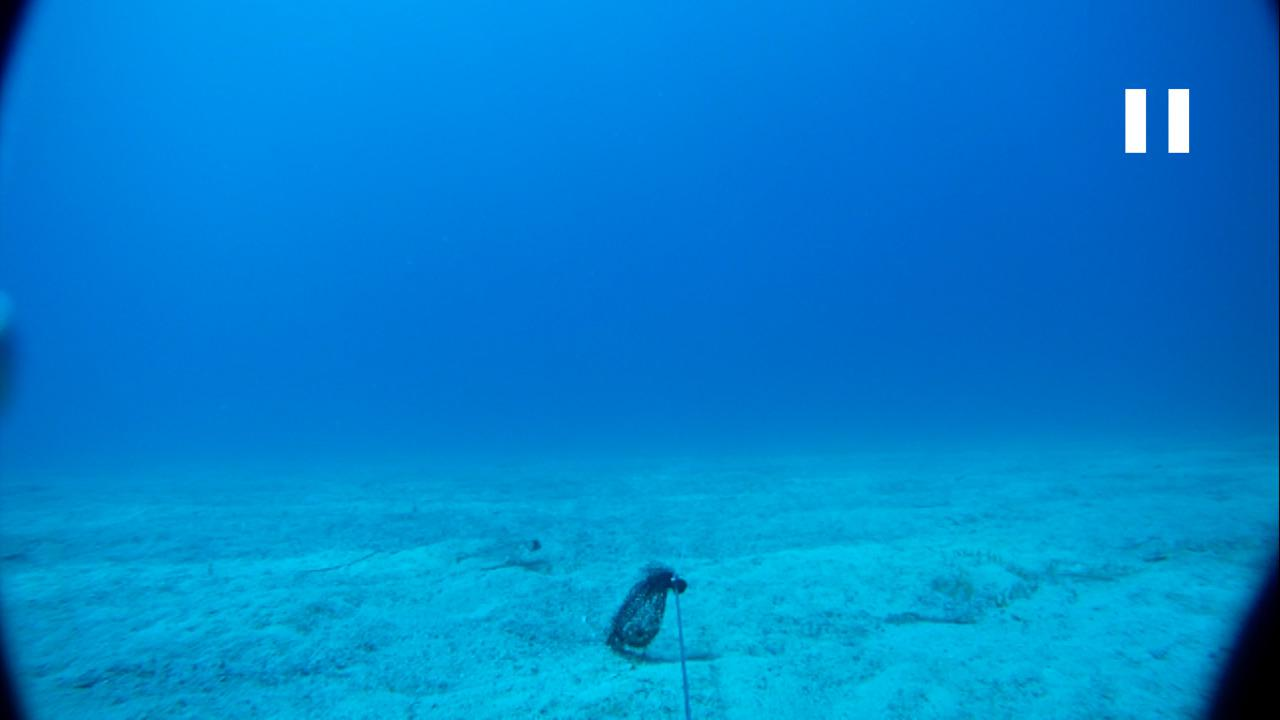dactylopterus: (442, 531, 548, 573)
